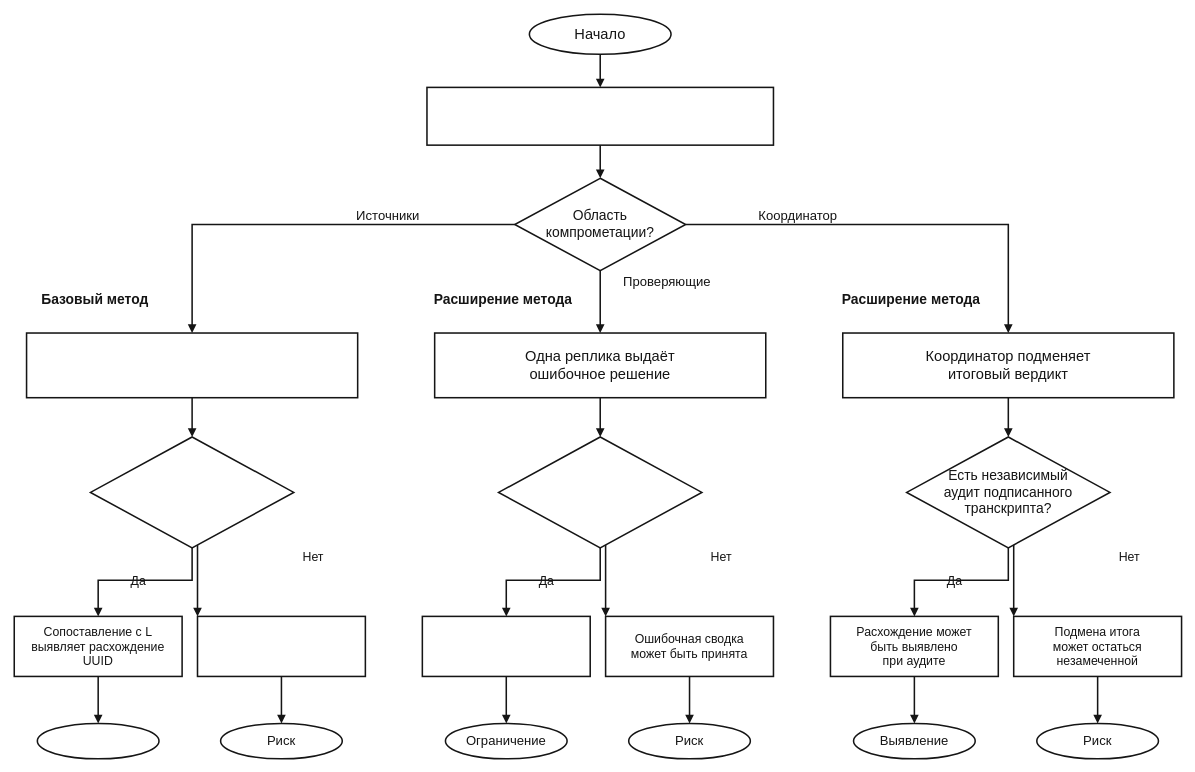
This 1195x772 diagram has some shape labels left out. Here are the shapes that lost their labels. From the top down, the centre of each, then its label:
pixel 600 116: Проверить целостность NFProfile по данным P, W, L и Π
pixel 191 365: Согласованная подмена профиля P и свидетельства W
pixel 191 492: Независим ли ключ события L?
pixel 599 492: Используется независимый кворум 2 из 3?
pixel 281 646: Возможен обход проверки связности доказательств
pixel 506 646: Ошибка одной реплики может быть маскирована
pixel 97 740: Отказ
